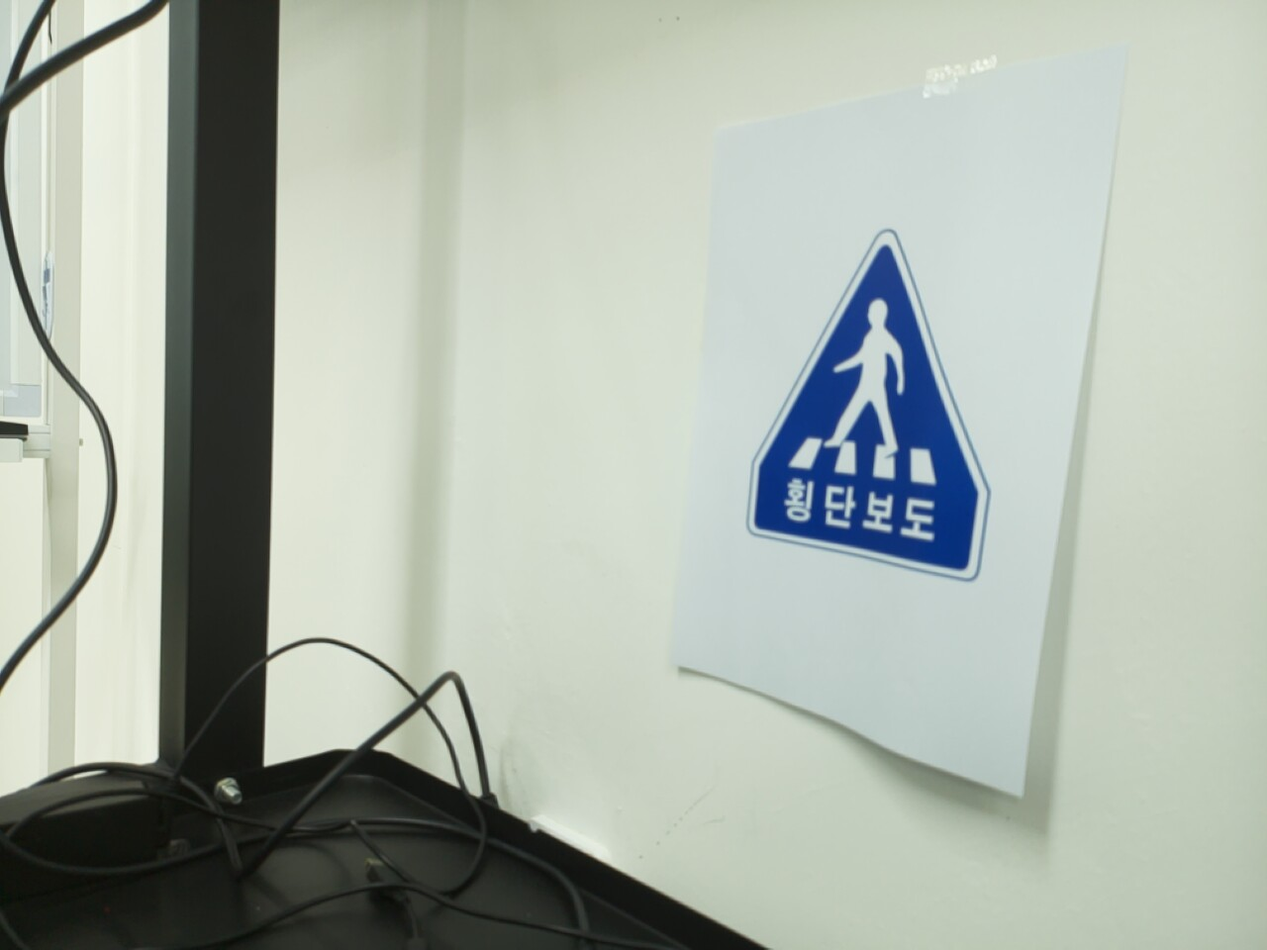crosswalk: (746, 235, 986, 580)
